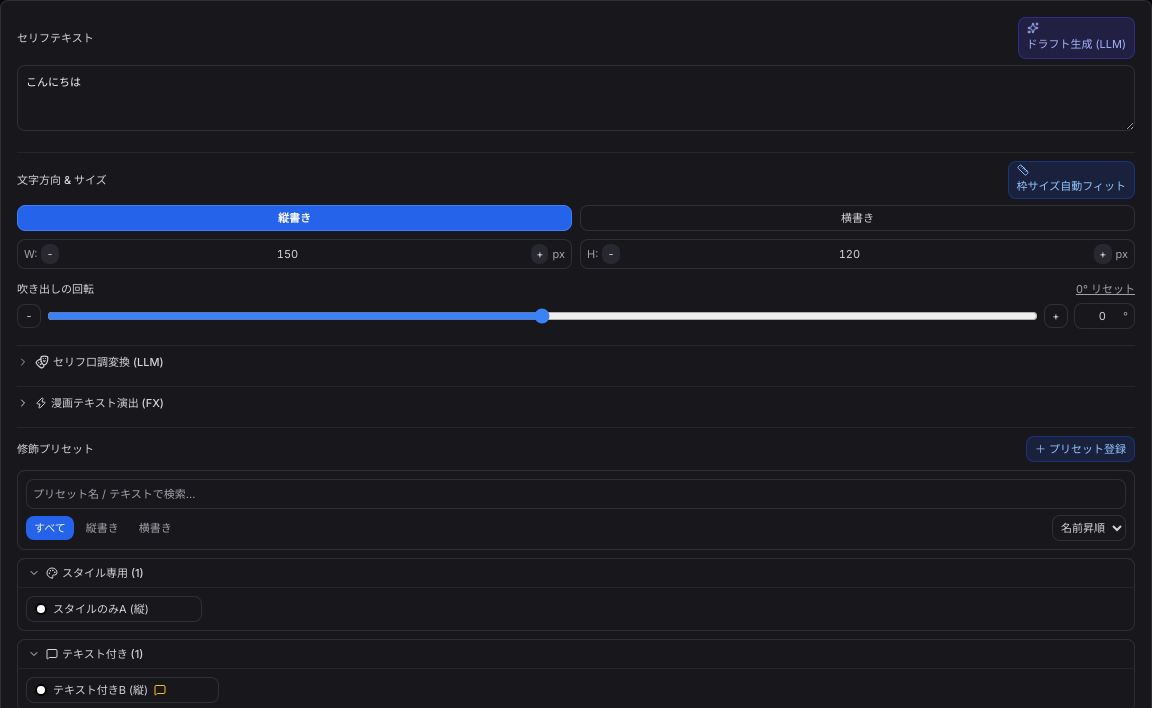
Test case: SpeechBubbleControls › separates presets into with-text and style-only sections with independent collapse/expand (AC-1)
Expected: the text "テキスト付き (1)" is shown, x1=46 y1=646 x2=143 y2=662
Expected: the text "スタイル専用 (1)" is shown, x1=46 y1=565 x2=144 y2=581
Click the button with aria-label "テキスト付きプリセットの折り畳み切替" at (98, 654), box x1=18 y1=640 x2=1134 y2=668
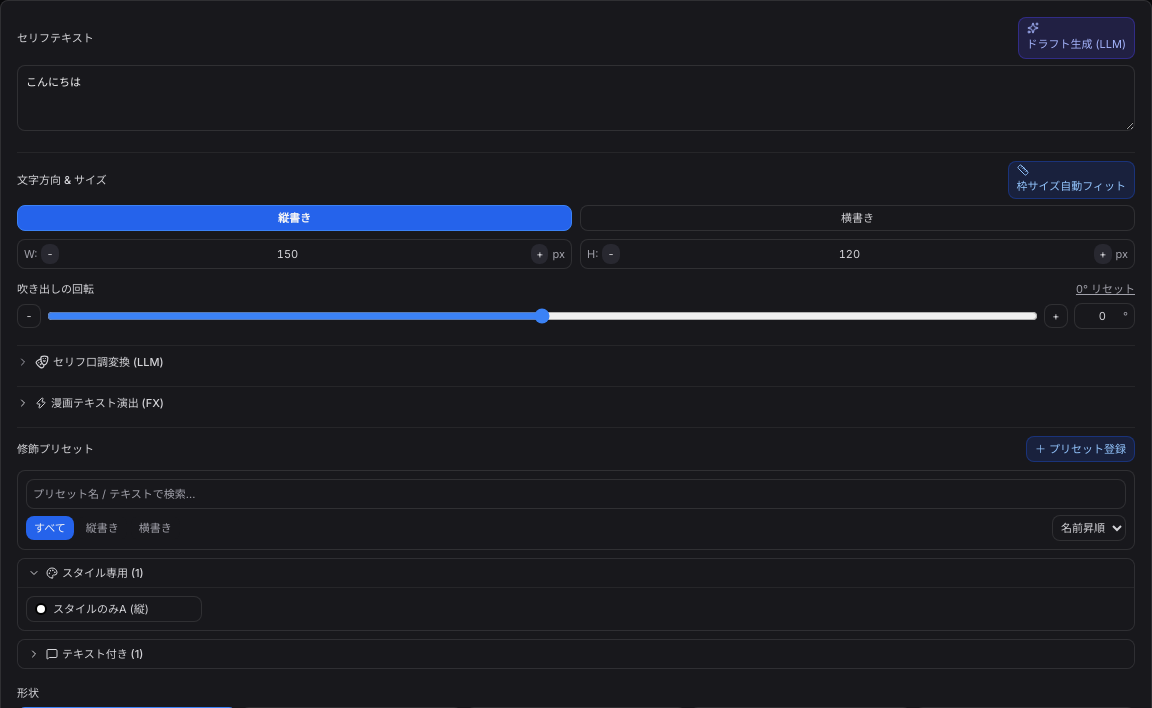
Expected: the text "スタイルのみA (縦)" is shown, x1=53 y1=601 x2=149 y2=617
Expected: the button "テキスト付きB (縦)" is gone
Note: Toggle expand for with-text section
Click the button with aria-label "テキスト付きプリセットの折り畳み切替" at (98, 654), box x1=18 y1=640 x2=1134 y2=668
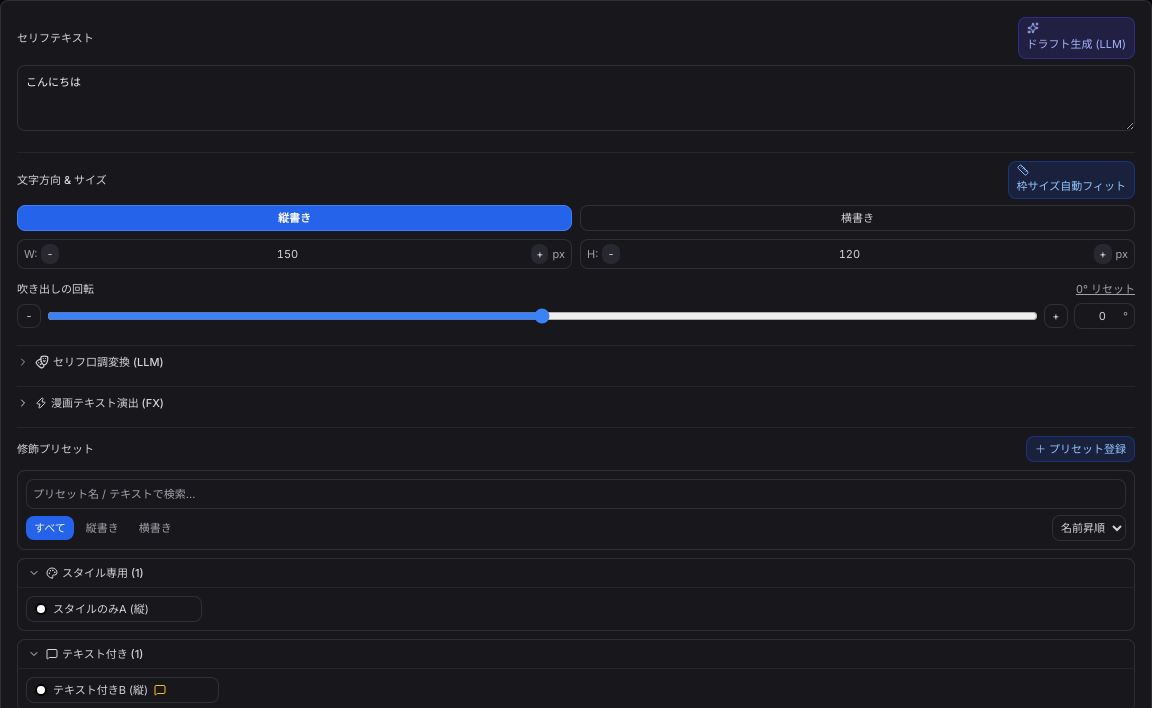
Expected: the text "テキスト付きB (縦)" is shown, x1=53 y1=682 x2=148 y2=698
Click the button with aria-label "スタイル専用プリセットの折り畳み切替" at (98, 573), box x1=18 y1=559 x2=1134 y2=587
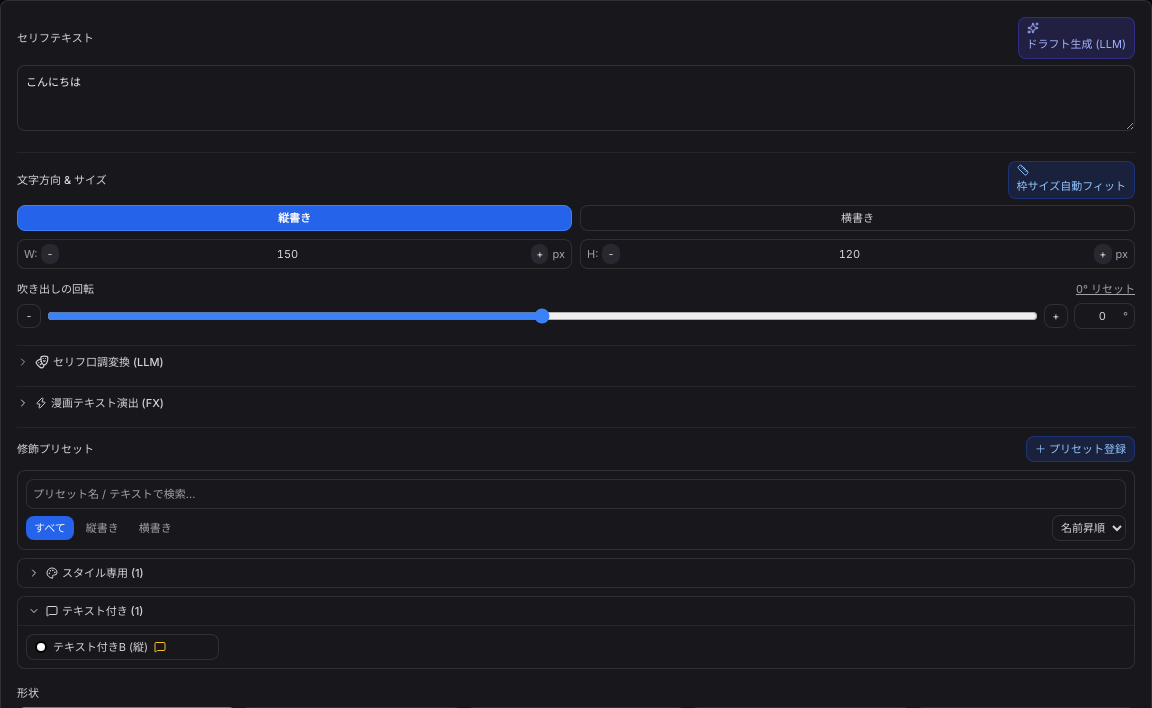
Expected: the text "テキスト付きB (縦)" is shown, x1=53 y1=639 x2=148 y2=655
Expected: the button "スタイルのみA (縦)" is gone
